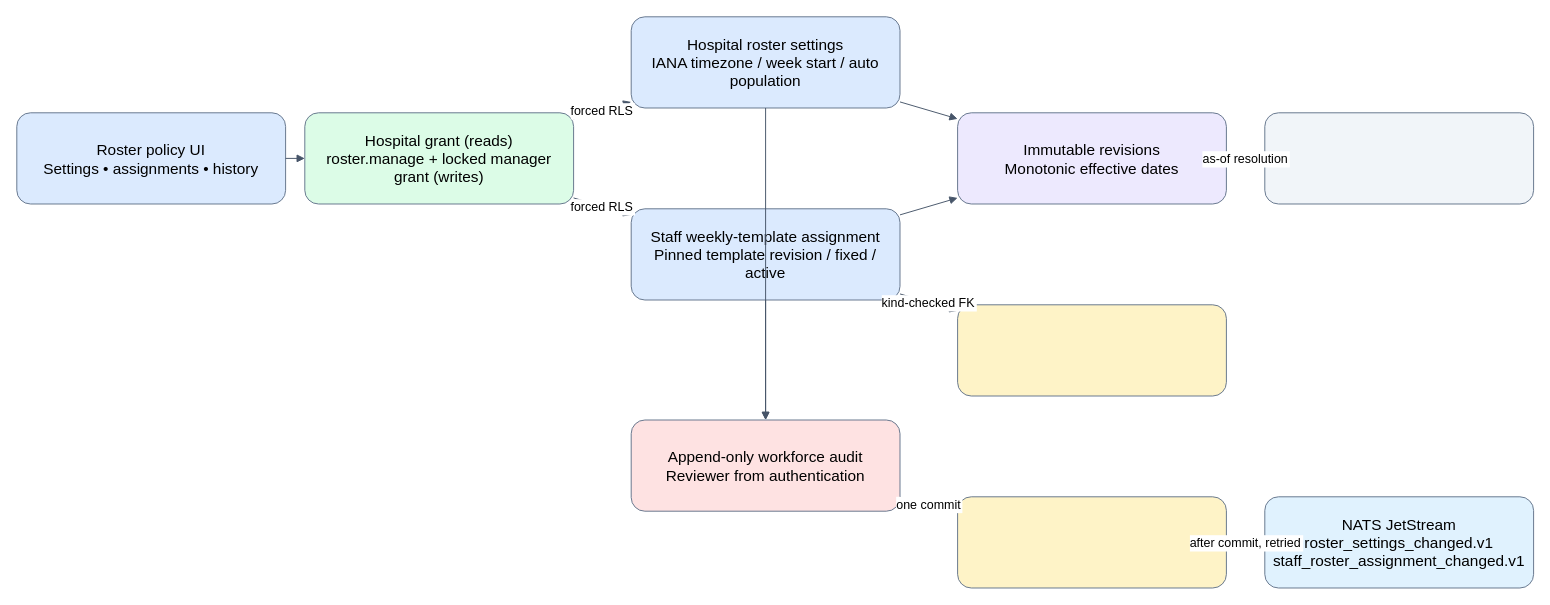
This 1550x605 diagram has some shape labels left out. The centre of each missing label's shape, as x and y in pixels:
Next #1036 slice: dated rosters DST resolution • population • freeze: [1399,158]
Outbox in same transaction Identifier-only events: [1091,542]
Weekly template revision (ADR-0018) Current + active for new pins: [1091,350]
